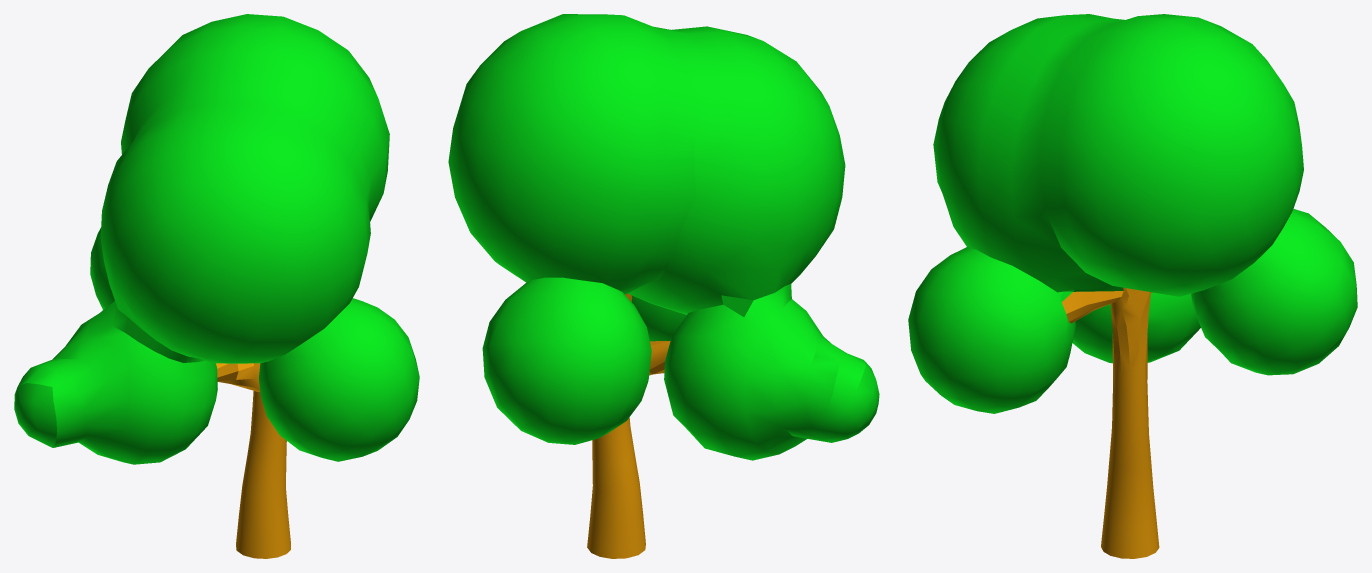
The model's file is arbol03.fbx.
The picture shows the model from 3 angles, left to right: view 1: azimuth 30°, elevation 25°; view 2: azimuth 150°, elevation 25°; view 3: azimuth 270°, elevation 25°; orthographic projection. The views are drawn at different scales.
Parts seen in each view (by area): view 1: Retopo_Cylinder.001; view 2: Retopo_Cylinder.001; view 3: Retopo_Cylinder.001.
Part boxes in pixels (<box>): Retopo_Cylinder.001: <box>14,14,419,558</box>; Retopo_Cylinder.001: <box>448,14,879,558</box>; Retopo_Cylinder.001: <box>908,14,1357,558</box>.
Size of the model in its own units: 540 by 711 by 553.
